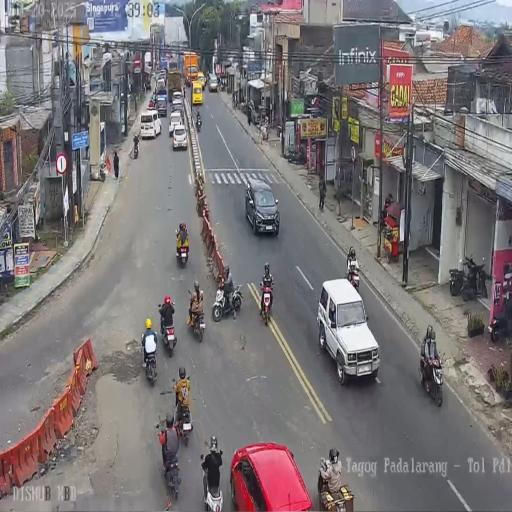car: (317, 279, 379, 385), (230, 443, 312, 511), (244, 176, 280, 237), (140, 108, 161, 139), (168, 110, 182, 138), (155, 94, 168, 118), (192, 80, 203, 106), (156, 69, 167, 86), (172, 91, 182, 107), (208, 76, 218, 92)
motorcycle: (419, 346, 444, 406), (212, 280, 243, 323), (201, 454, 223, 512), (462, 253, 488, 301), (162, 440, 181, 499), (141, 334, 159, 384), (177, 390, 193, 444), (186, 298, 205, 342), (160, 307, 177, 356), (259, 280, 274, 327), (448, 258, 466, 296), (488, 306, 506, 343), (175, 229, 189, 267), (286, 145, 305, 165), (241, 99, 251, 115), (132, 139, 139, 159), (195, 114, 202, 132), (144, 79, 151, 92), (221, 76, 227, 90), (276, 125, 282, 138), (206, 72, 210, 85)
truck: (183, 53, 199, 87)
